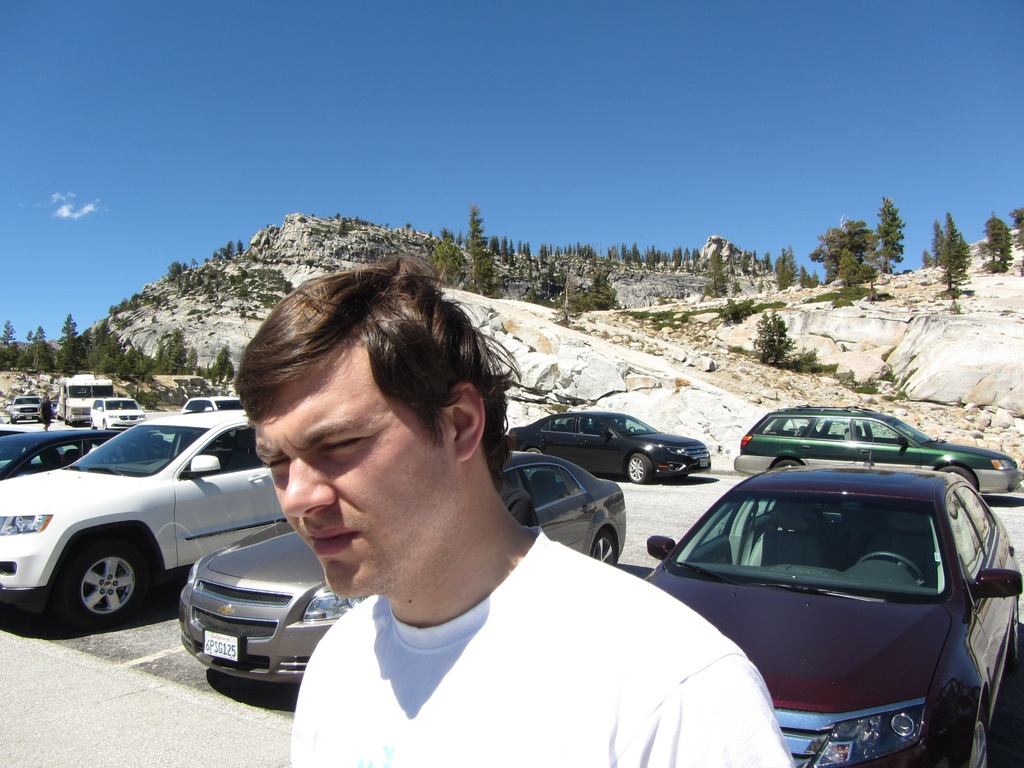Car: (638, 427, 1024, 752), (175, 452, 625, 679), (0, 410, 294, 621), (732, 404, 1023, 489), (504, 407, 713, 483), (0, 430, 170, 481), (0, 415, 74, 467), (89, 395, 144, 430), (177, 395, 241, 412), (7, 394, 43, 423), (48, 399, 62, 416)
